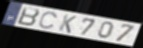0: (96, 21, 116, 40)
7: (114, 23, 137, 43), (80, 18, 97, 36)
B: (16, 6, 41, 27)
C: (37, 11, 59, 30)
K: (57, 14, 78, 35)
